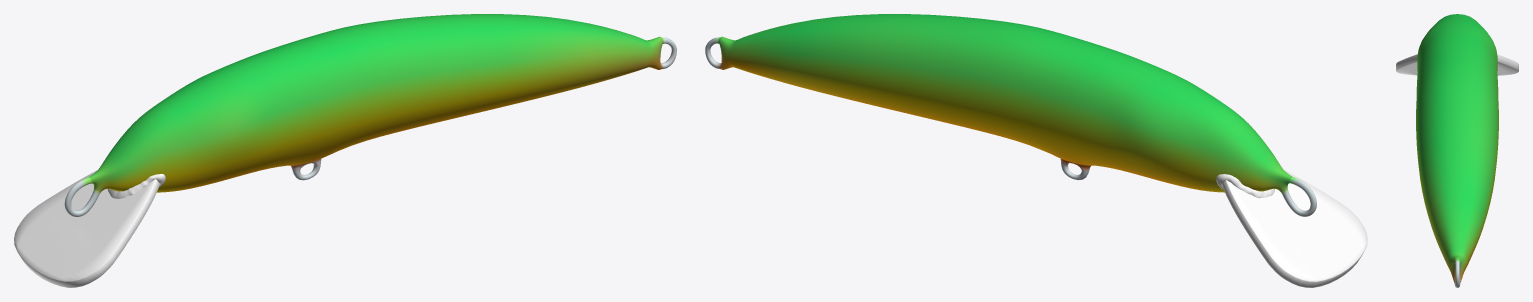
File: fishingLure.fbx
3 renders of one model, left to right at view 1: azimuth 30°, elevation 25°; view 2: azimuth 150°, elevation 25°; view 3: azimuth 270°, elevation 25°, orthographic. The views are drawn at different scales.
Visible parts, largest first — view 1: bait_handcrafted_lure; view 2: bait_handcrafted_lure; view 3: bait_handcrafted_lure.
Part boxes in pixels (<box>): bait_handcrafted_lure: <box>14,14,676,287</box>; bait_handcrafted_lure: <box>705,14,1367,287</box>; bait_handcrafted_lure: <box>1396,14,1518,287</box>.
Size of the model in its own units: 526 by 130 by 104.
